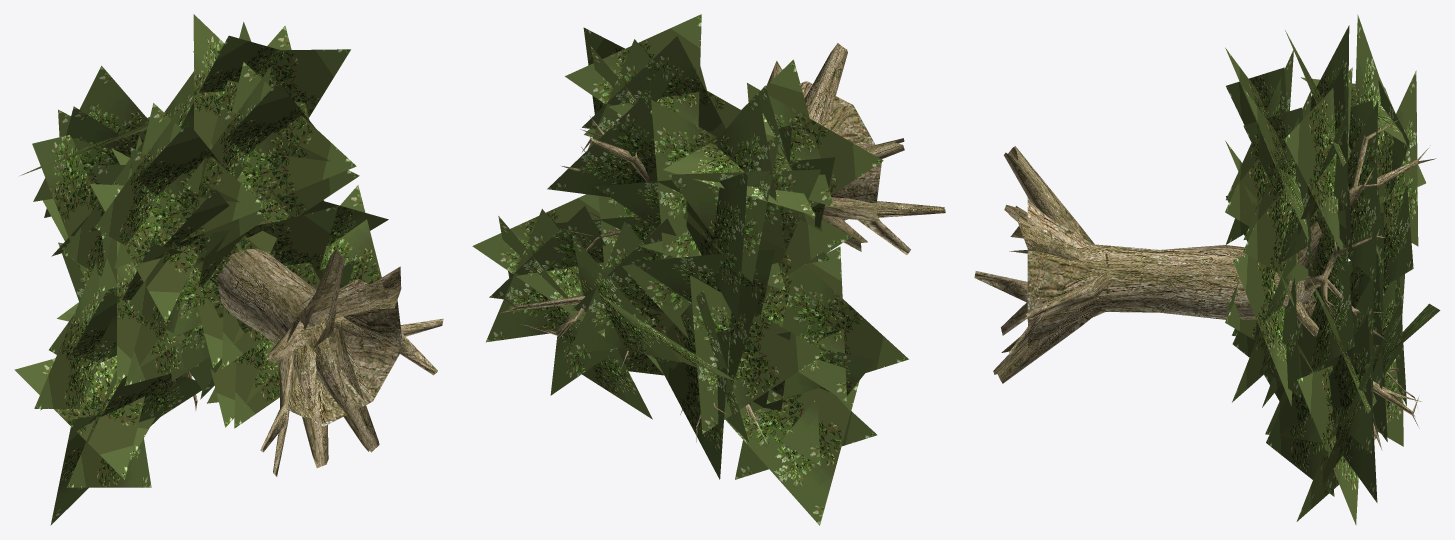
Rendered from fig_b.glb.
The picture shows the model from 3 angles, left to right: view 1: azimuth 30°, elevation 25°; view 2: azimuth 150°, elevation 25°; view 3: azimuth 270°, elevation 25°; orthographic projection. The views are drawn at different scales.
Bounding box in the file's own units: 18.46 × 20.72 × 17.11.
Materials: 2 (2 with a texture image).
